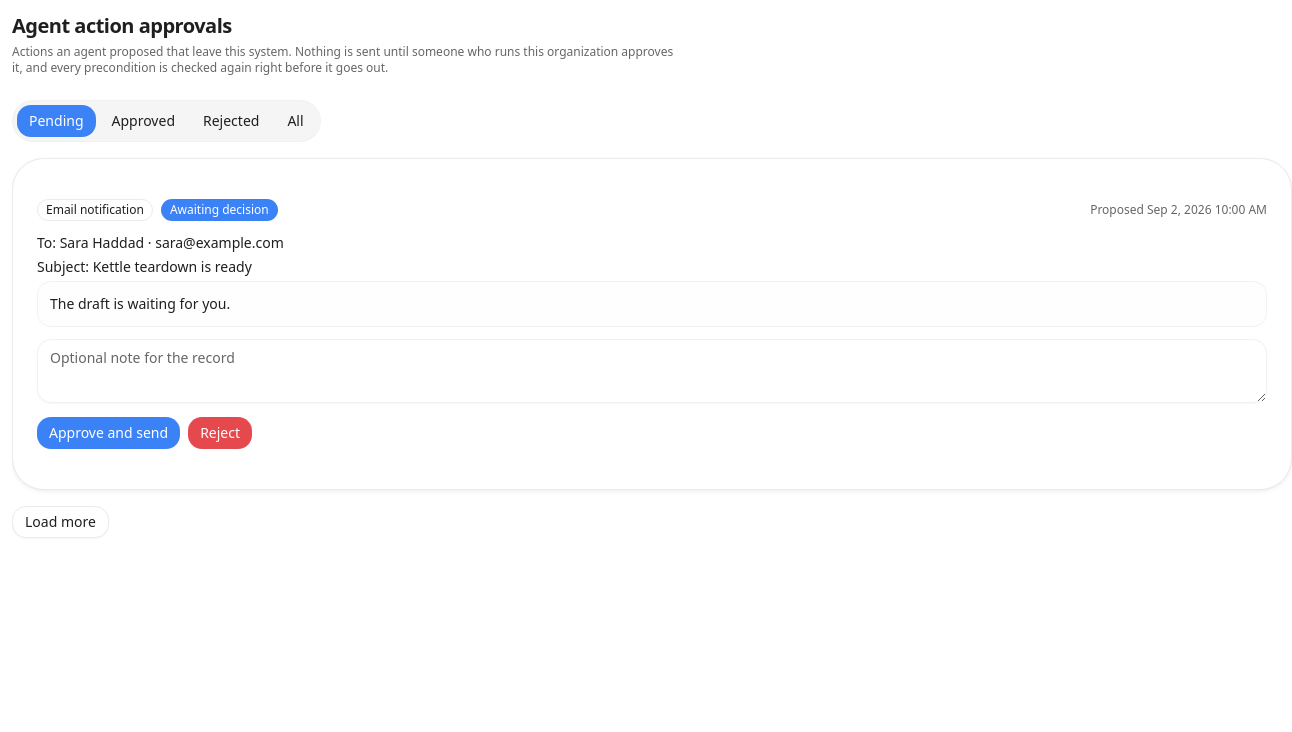
it: organization approvals block › drops a page that arrives after the filter changed
Expected: the text "Kettle teardown is ready" is shown, [93,257,252,276]
Click the button "Load more". click: (60, 522)
box: [12,506,109,538]
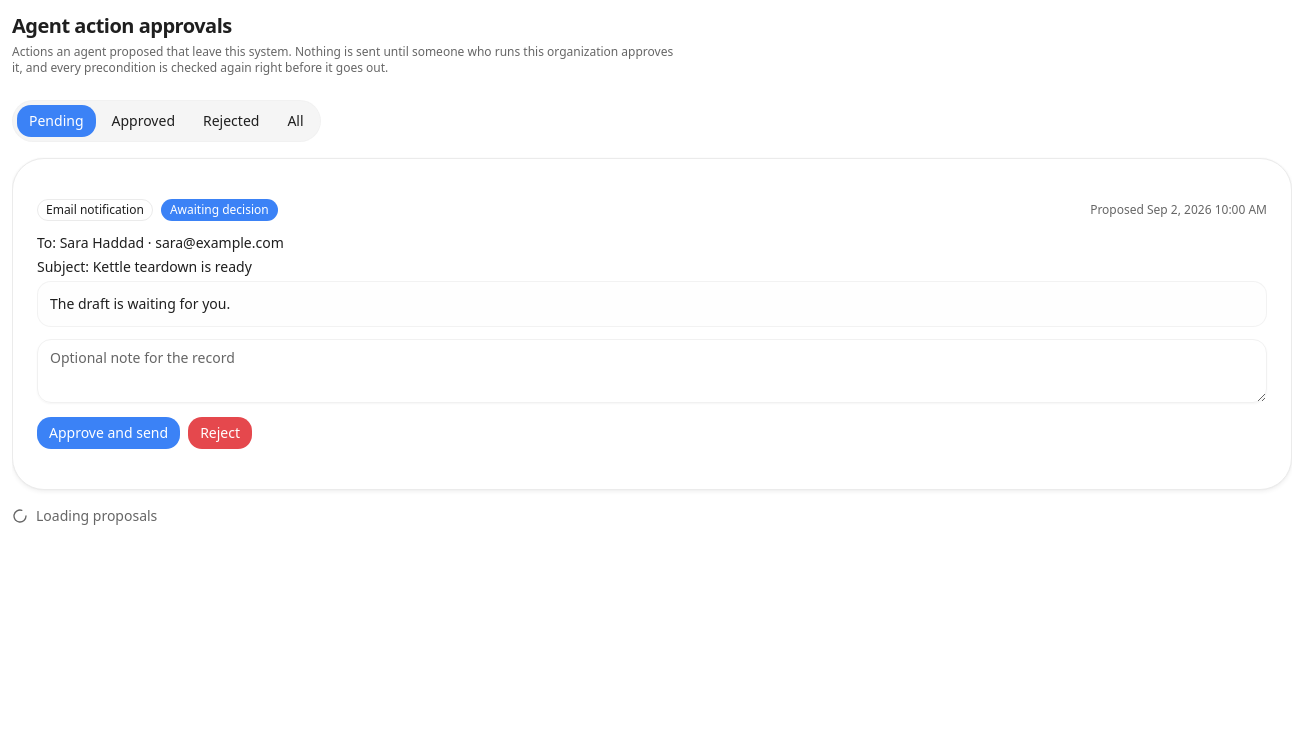
Click the button "All". click: (296, 121)
box: [275,105,316,137]
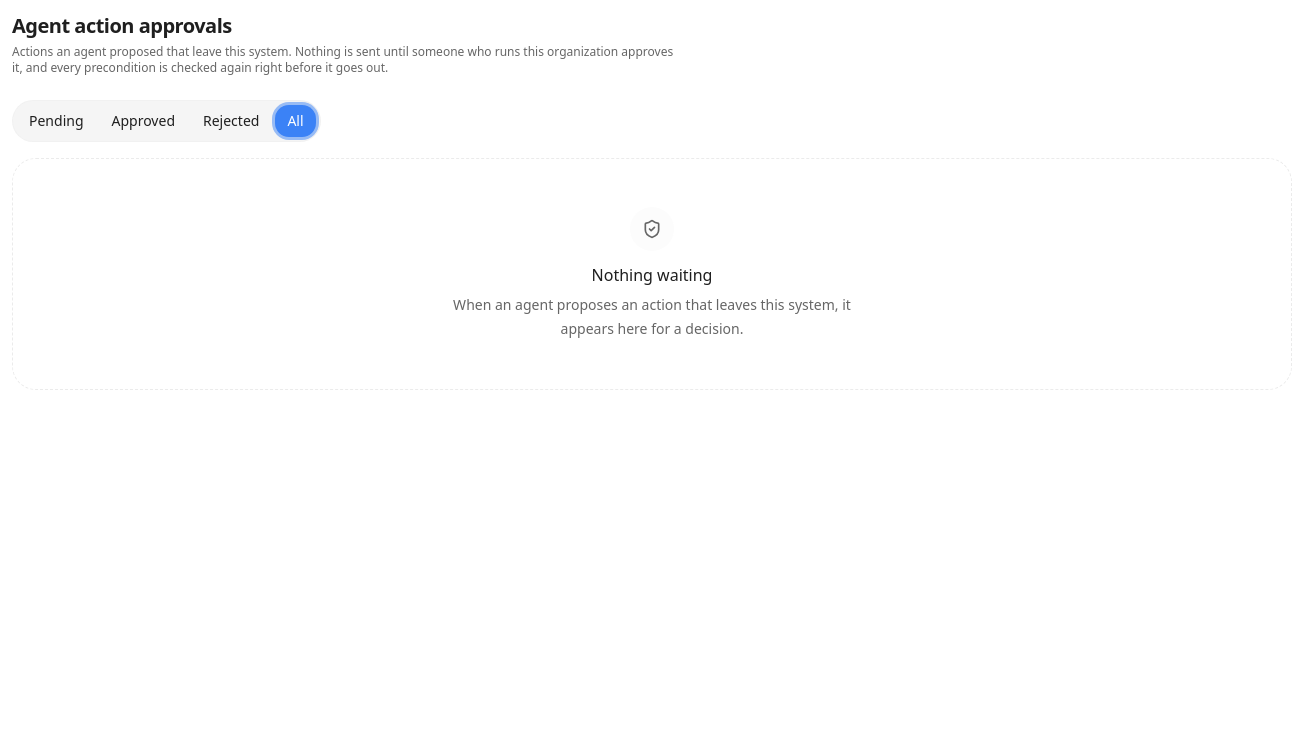
Expected: the text "Nothing waiting" is shown, [592,264,712,286]
Expected: the text "Kettle teardown is ready" is gone
